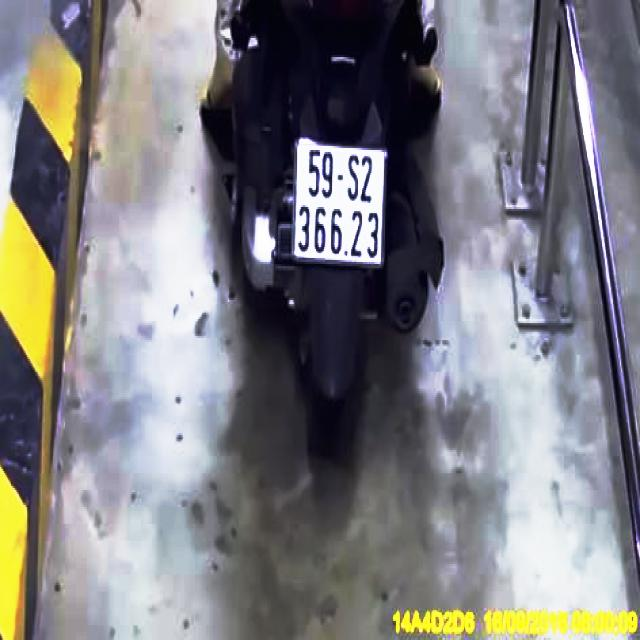license_plate: (291, 140, 387, 265)
